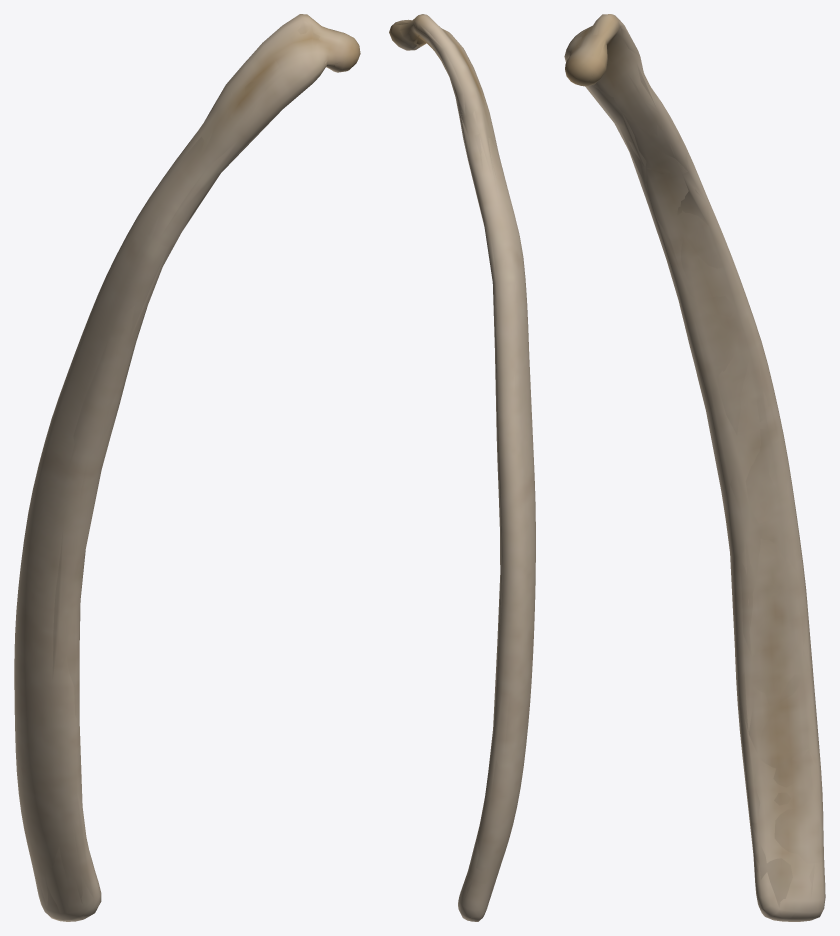
File: Rib R05.fbx
3 renders of one model, left to right at view 1: azimuth 30°, elevation 25°; view 2: azimuth 150°, elevation 25°; view 3: azimuth 270°, elevation 25°, orthographic. The views are drawn at different scales.
Parts seen in each view (by area): view 1: Rib R05, Rib R05 low; view 2: Rib R05, Rib R05 low; view 3: Rib R05 low, Rib R05.
Part boxes in pixels (left/top/right/bottom): Rib R05: left=14, top=14, right=360, bottom=921; Rib R05 low: left=18, top=14, right=357, bottom=921; Rib R05: left=389, top=14, right=535, bottom=921; Rib R05 low: left=390, top=15, right=534, bottom=921; Rib R05 low: left=565, top=15, right=824, bottom=919; Rib R05: left=564, top=14, right=825, bottom=921.
Size of the model in its own units: 12.52 by 45.27 by 10.87.
1 material, 1 textured.
